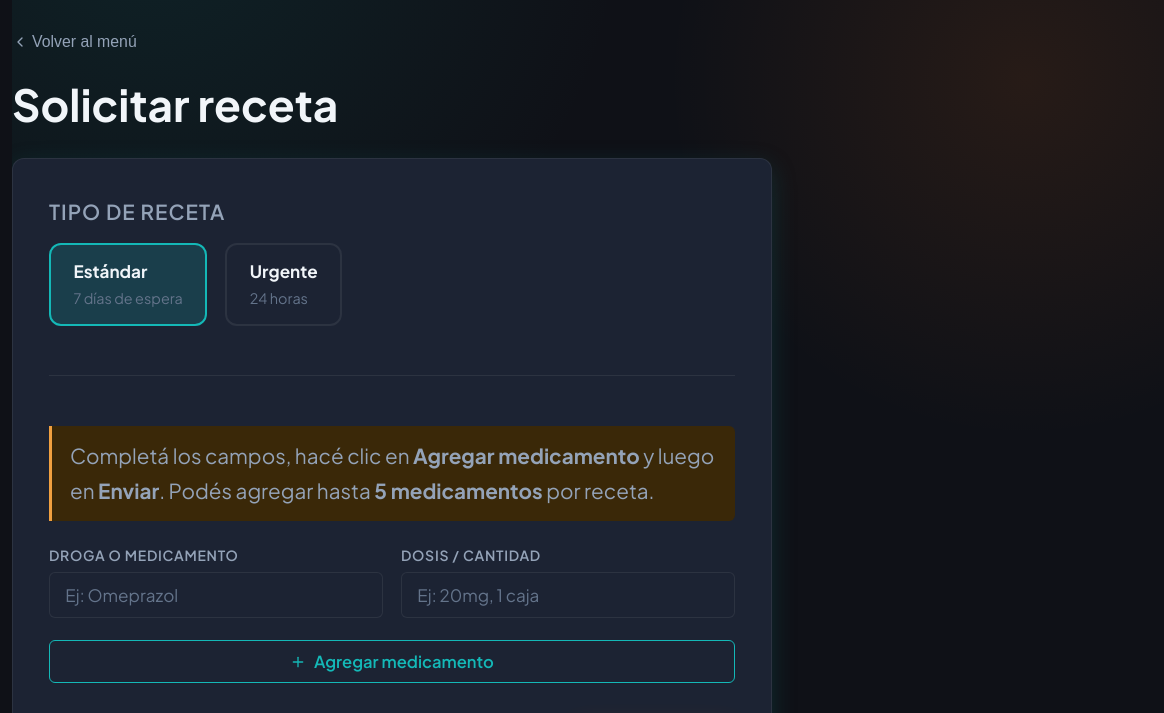
Test: SolicitarRecetaPage › arma la lista de medicamentos y envía la solicitud
The width and height of the screenshot is (1164, 713).
Click the radio button labelled "Urgente 24 horas".
click(284, 284)  # box [225,243,342,326]
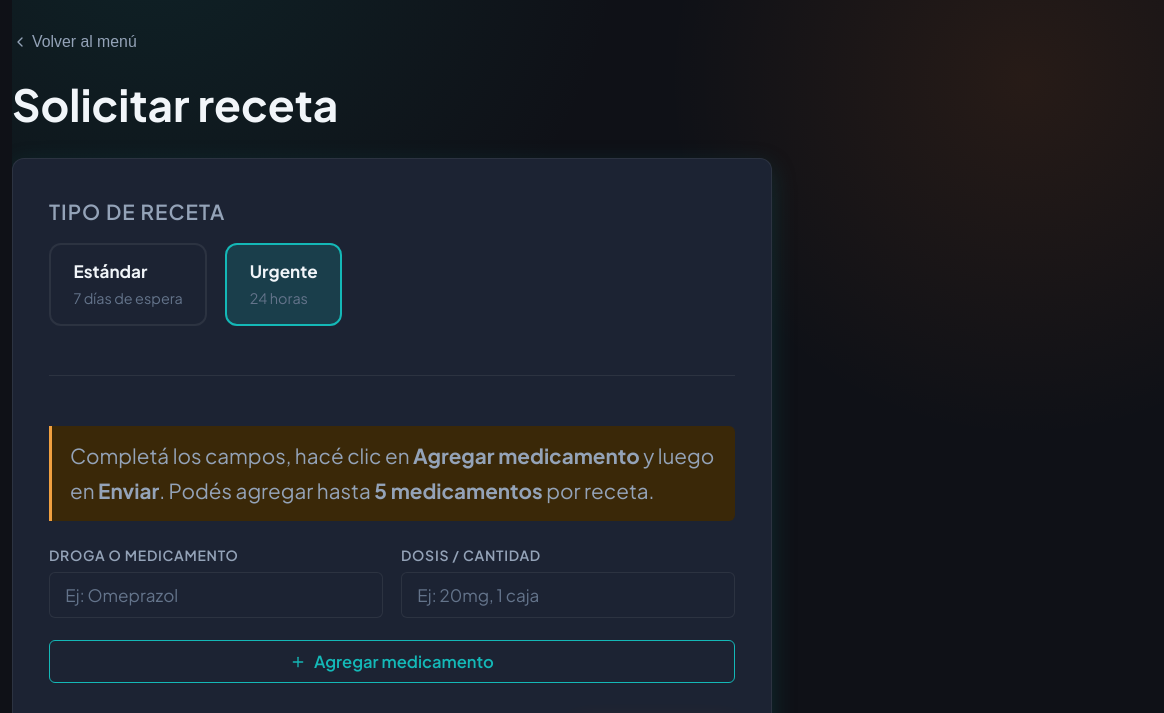
Type "Ibuprofeno" into the field labelled "Droga o medicamento".
click(216, 595); type("Ibuprofeno")  # box [49,572,383,618]
Type "400mg" into the field labelled "Dosis / Cantidad".
click(568, 595); type("400mg")  # box [401,572,735,618]
Then press Enter
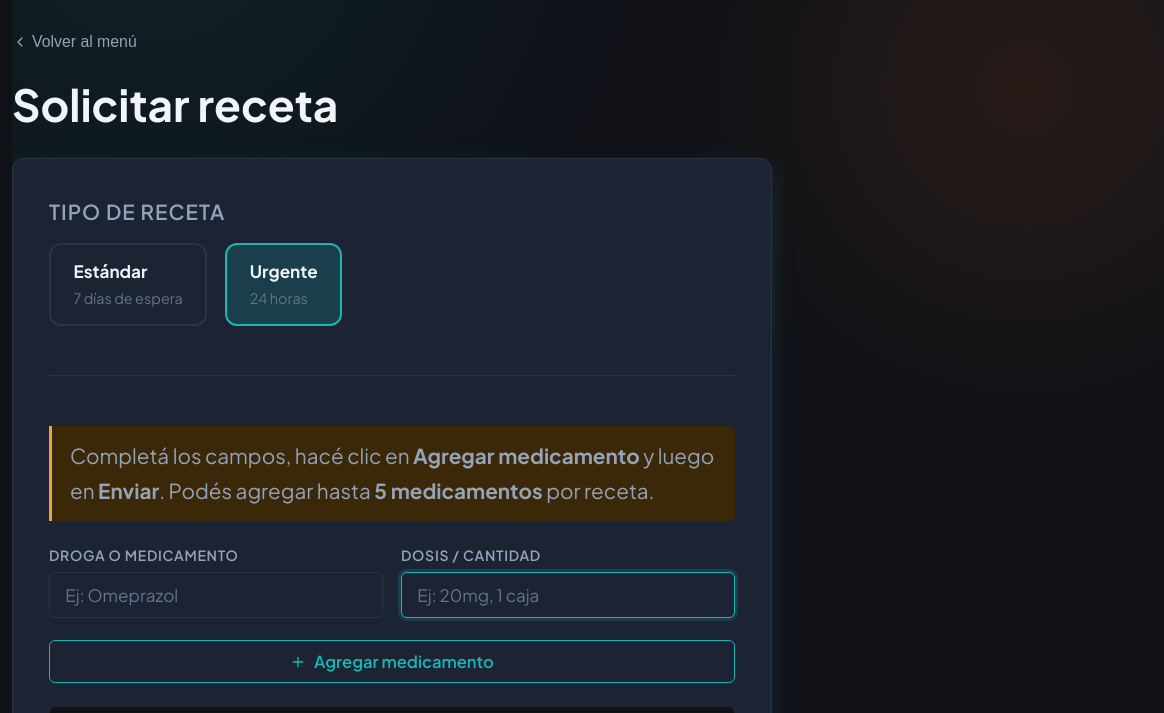
Type "Paracetamol" into the field labelled "Droga o medicamento".
click(216, 595); type("Paracetamol")  # box [49,572,383,618]
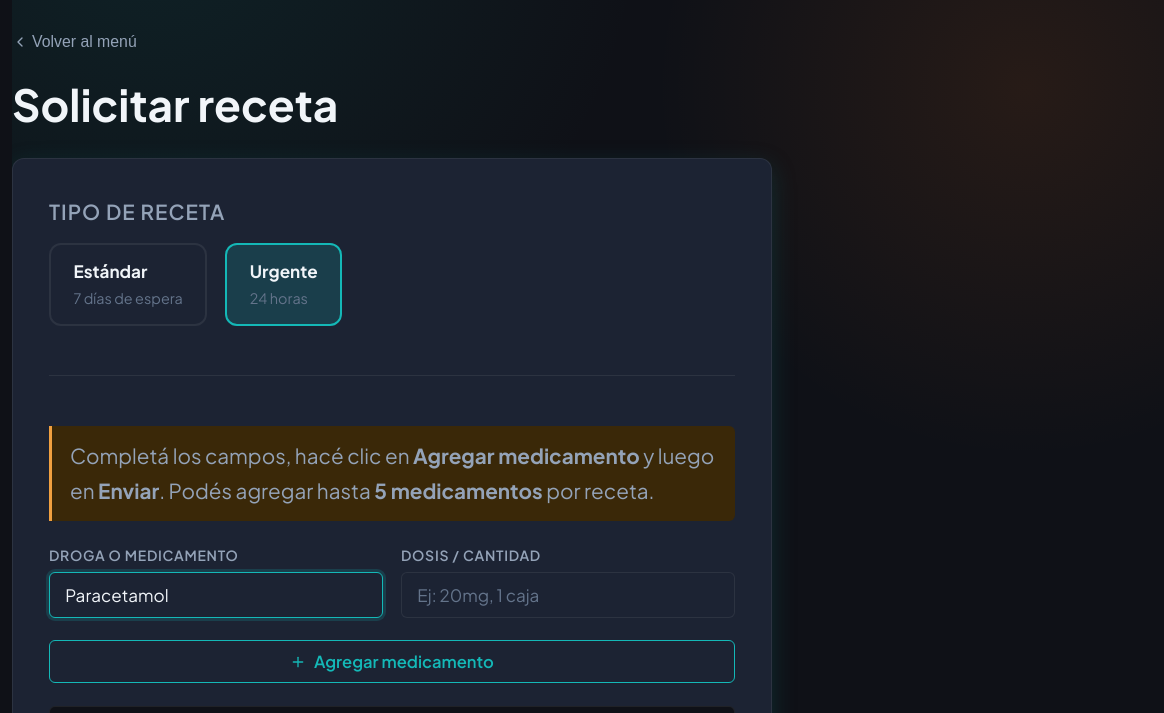
Click the button "Agregar medicamento".
click(392, 662)  # box [49,640,735,683]
(page scrolled)
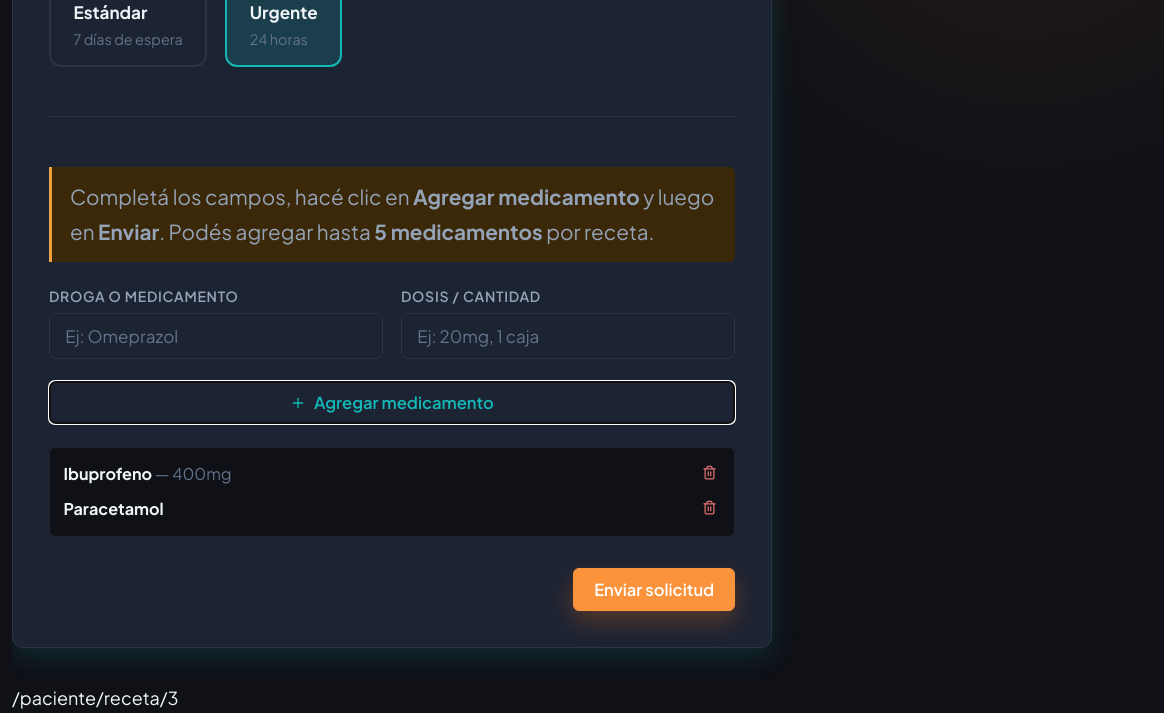
Click the button titled "Quitar" in the row of "Paracetamol".
click(709, 509)  # box [698,496,720,522]
(page scrolled)
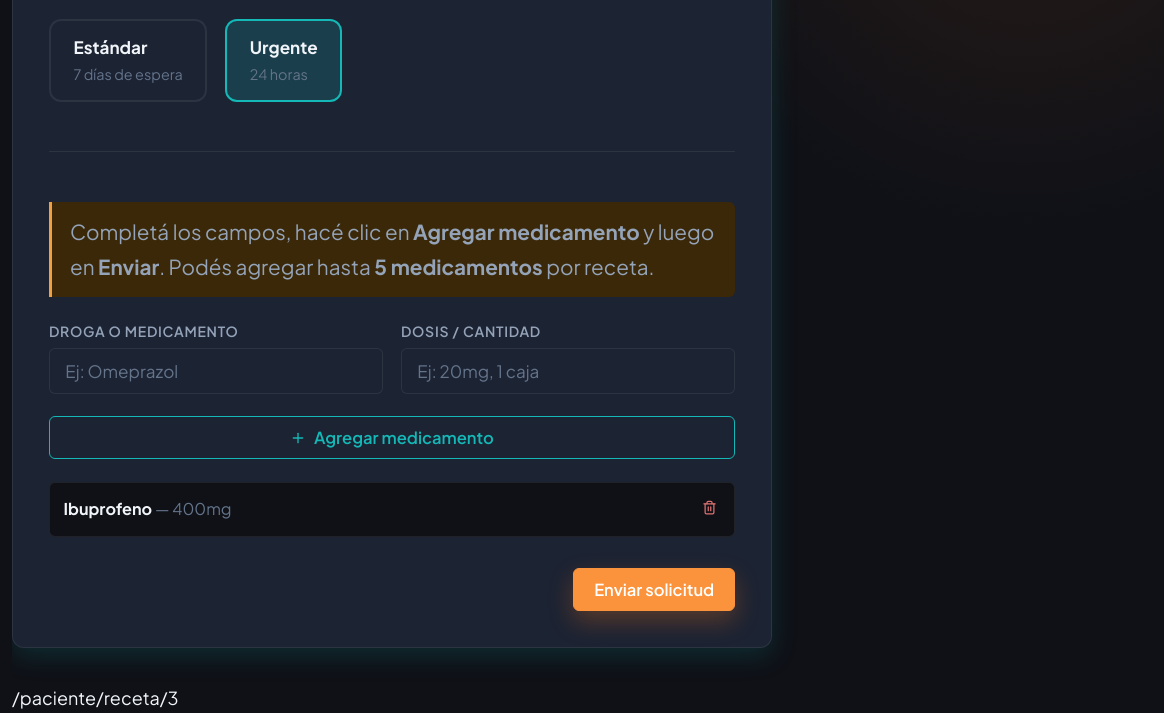
Click the button "Enviar solicitud".
click(654, 590)  # box [573,568,735,611]
(page scrolled)
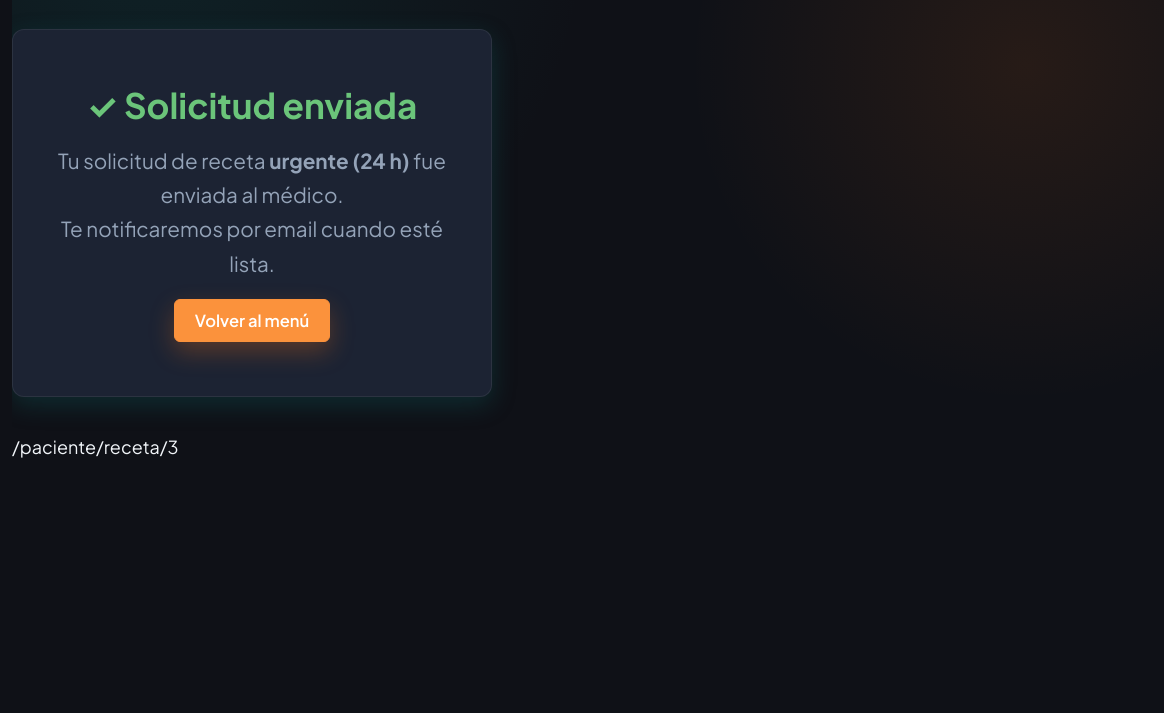
Check: the heading "✓ Solicitud enviada" is shown, box [87,84,417,126]
